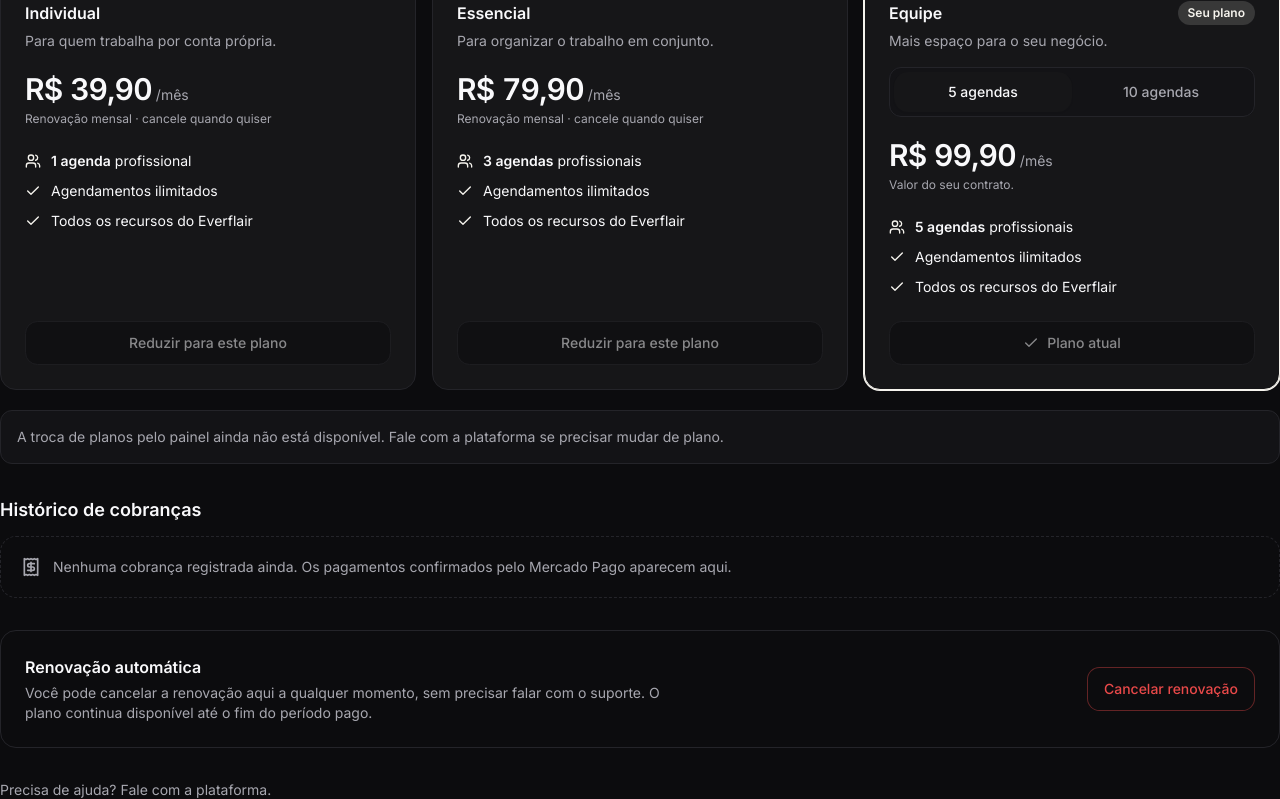
Test: cancellation asks for review and waits for server confirmation while preserving paid access
(page scrolled)
Click the button "Cancelar renovação". click: (1171, 689)
box: [1087,667,1255,711]
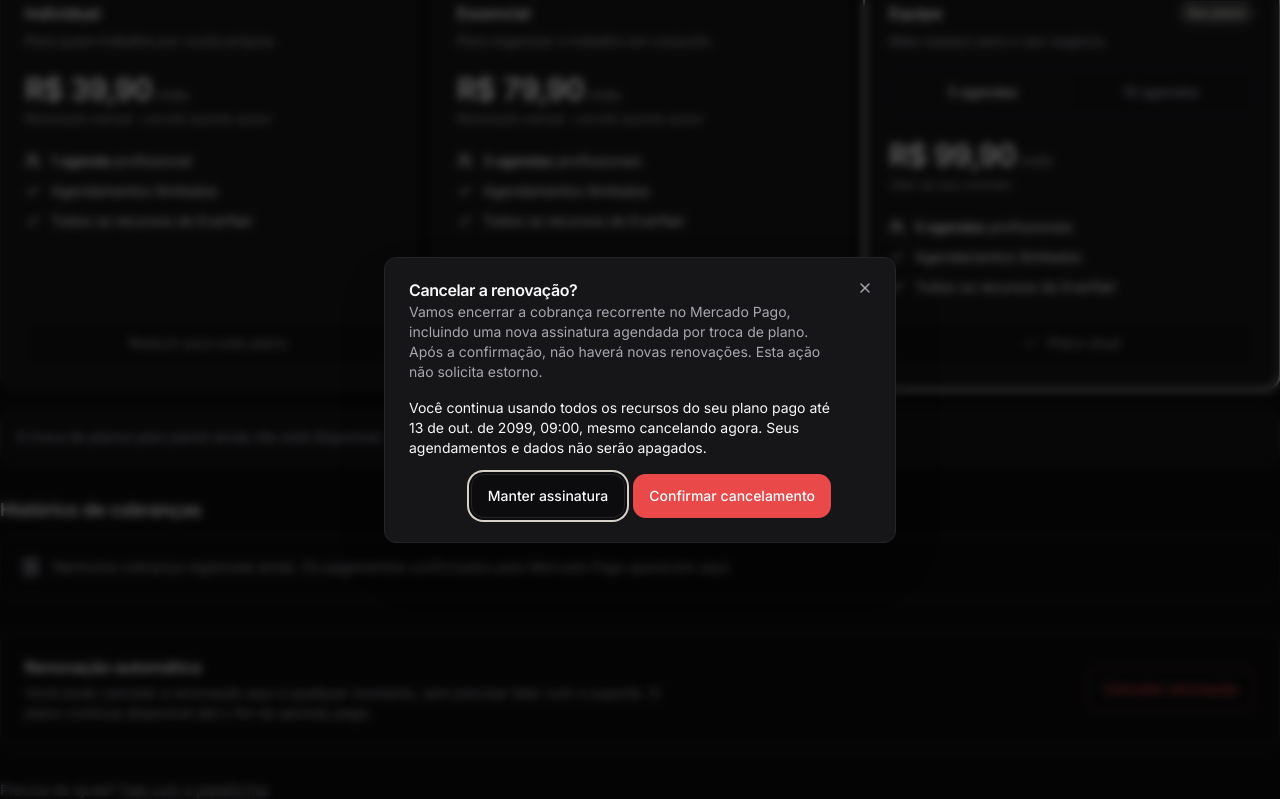
Check: the dialog shows "13 de out. de 2099, 09:00", box [409,399,830,436]
Check: the dialog shows "todos os recursos", box [409,399,830,436]
Click the button "Confirmar cancelamento". click: (732, 496)
box: [633,474,831,518]
(page scrolled)
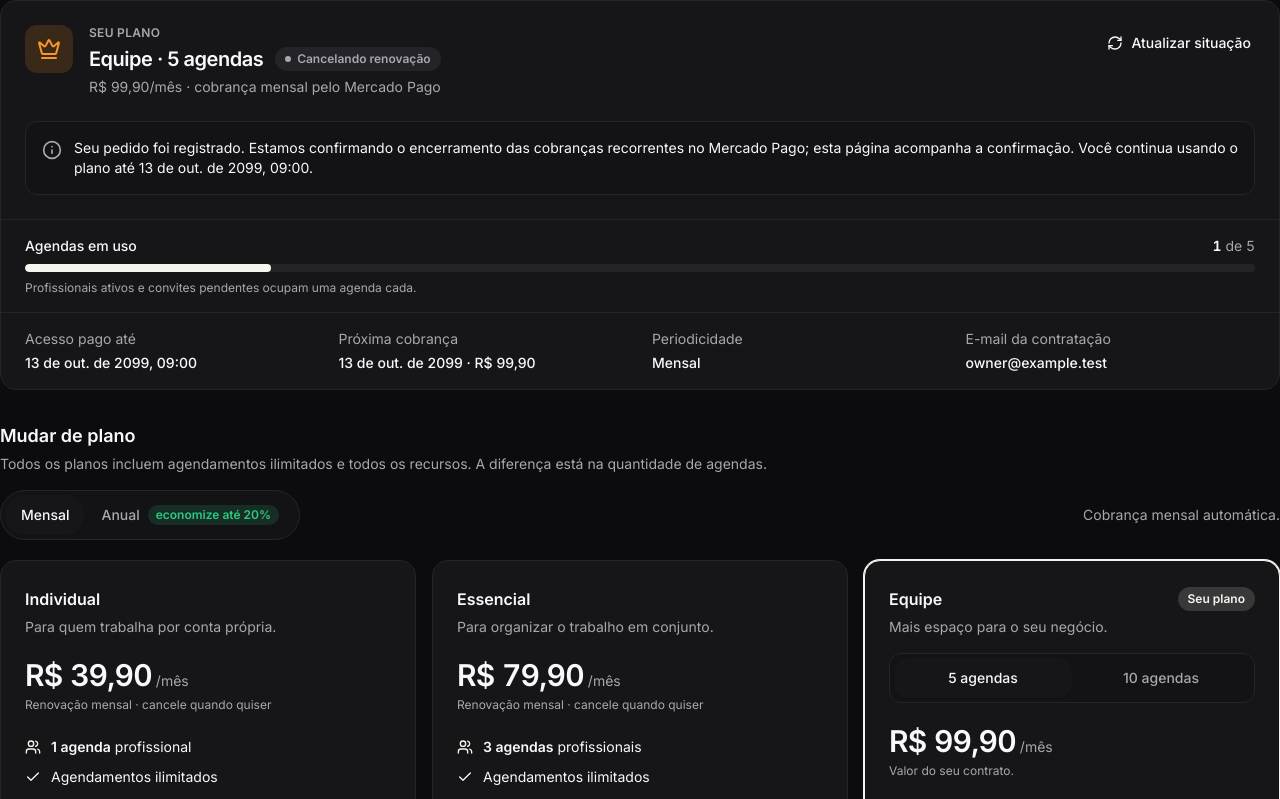
Check: the text "Acesso pago até" is shown, box [25,330,136,347]
Check: the text "Cancelando renovação" is shown, box [275,47,441,71]
